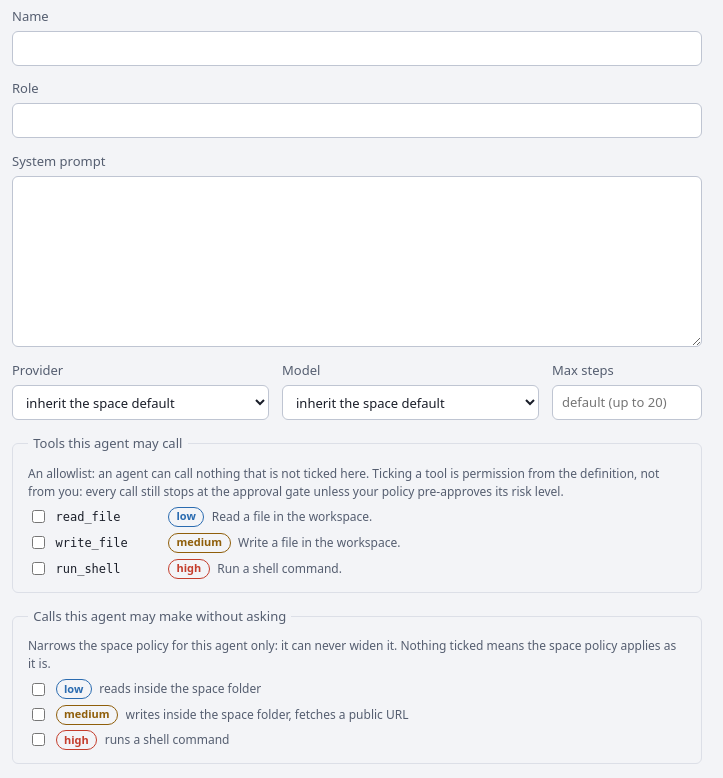
Test case: validation errors land on the field the server blamed › shows a duplicate-name conflict against the name input
Step 1. Type "researcher" into the field with test id "field-name" → (357, 48), box x1=12 y1=31 x2=702 y2=66
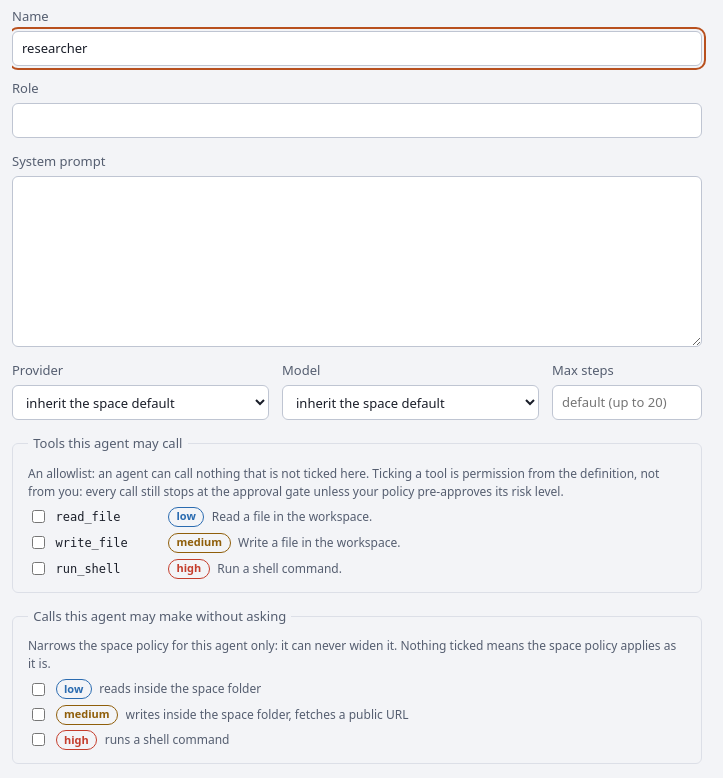
Step 2. Type "You do the thing." into the text box with test id "field-system-prompt" → (357, 262), box x1=12 y1=176 x2=702 y2=347
(page scrolled)
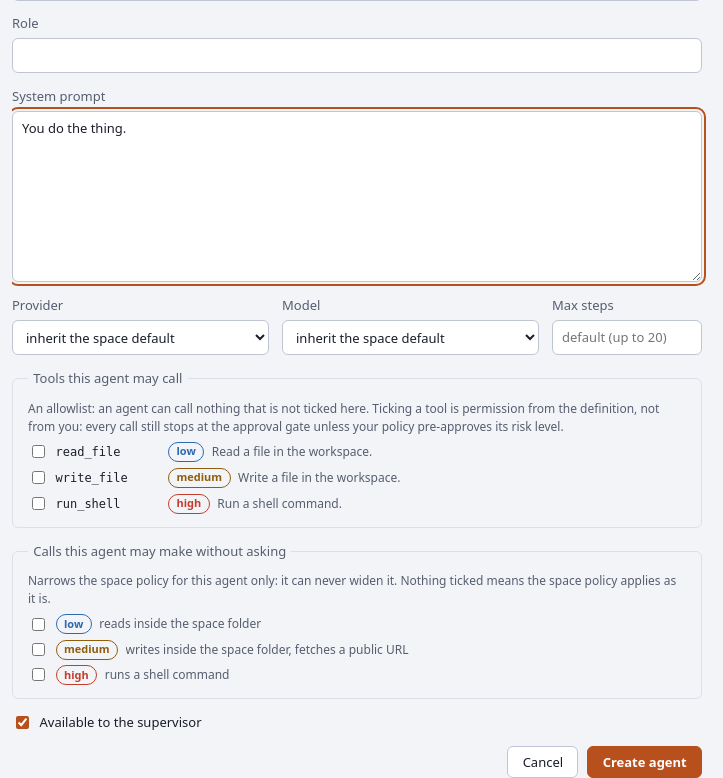
Step 3. Click the button "Create agent" → (645, 762), box x1=587 y1=746 x2=702 y2=777
(page scrolled)
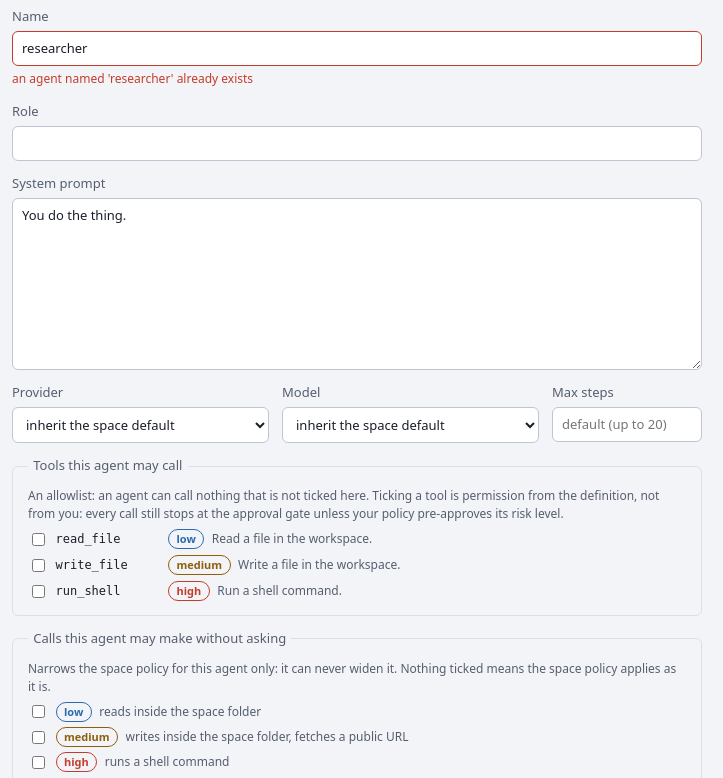
Expected: the message with test id "error-name" reads "an agent named 'researcher' already exists", x1=12 y1=70 x2=253 y2=87
